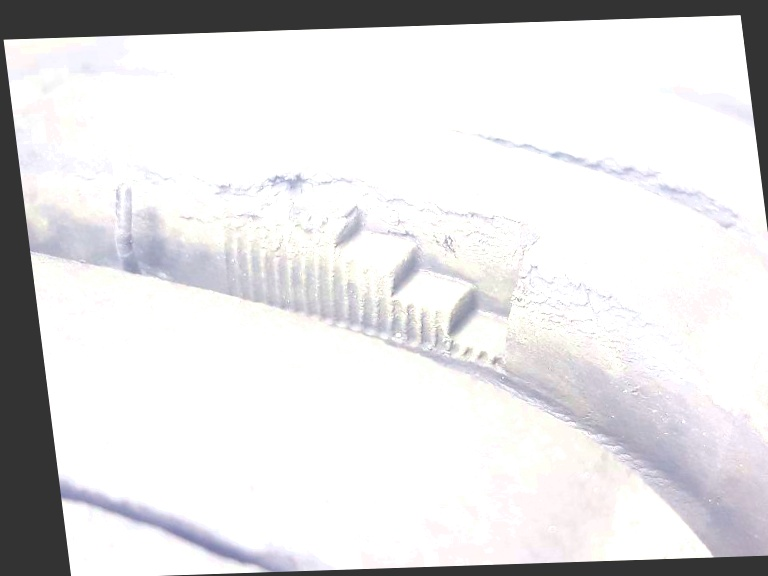temoin:80: (201, 140, 571, 396)
